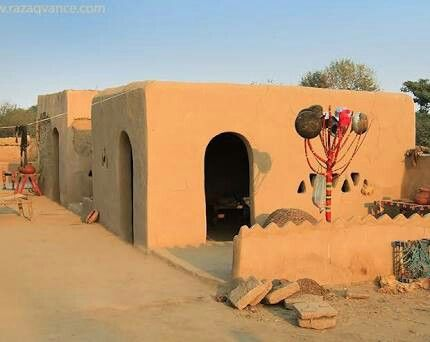Mud House: (30, 76, 415, 287)
